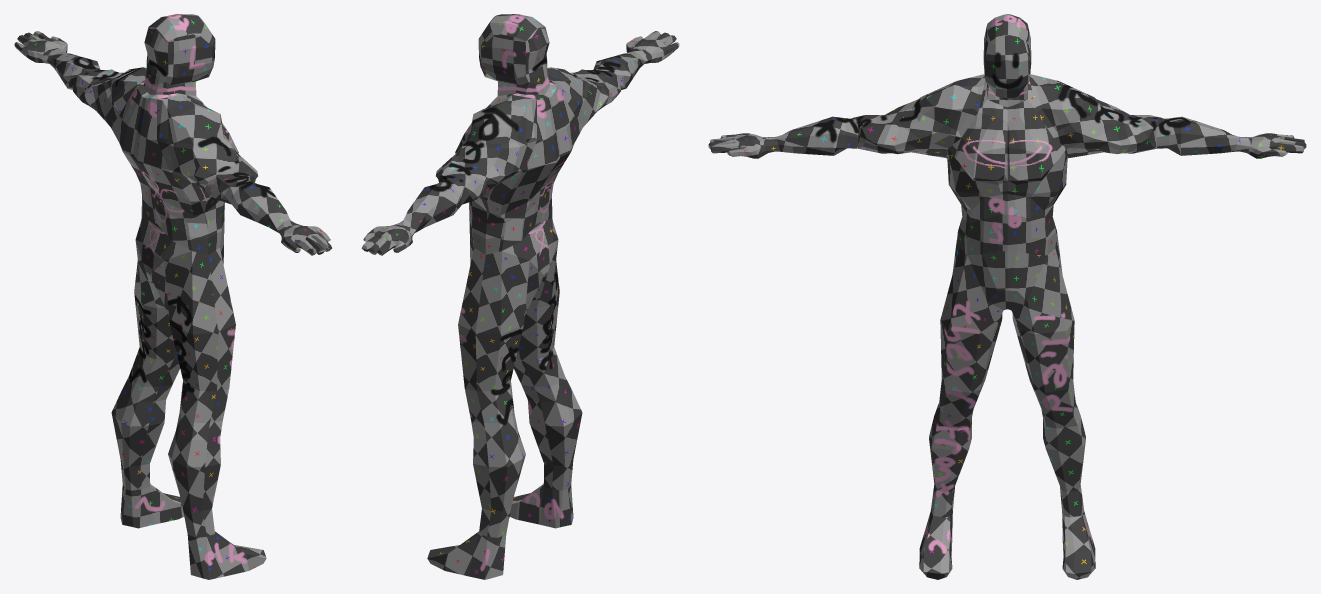
Rendered from chracter_seamedv2.fbx.
3 views of the same model, side by side, from view 1: azimuth 30°, elevation 25°; view 2: azimuth 150°, elevation 25°; view 3: azimuth 270°, elevation 25° (orthographic).
Visible parts, largest first — view 1: Cube; view 2: Cube; view 3: Cube.
Part boxes in pixels (x1,y1,x2,y2): Cube: (14,14,332,579); Cube: (361,14,679,579); Cube: (708,14,1306,579).
Size of the model in its own units: 123 by 619 by 626.
7 materials, 7 textured.
